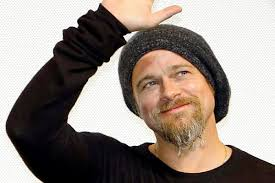beard: (148, 94, 208, 153)
